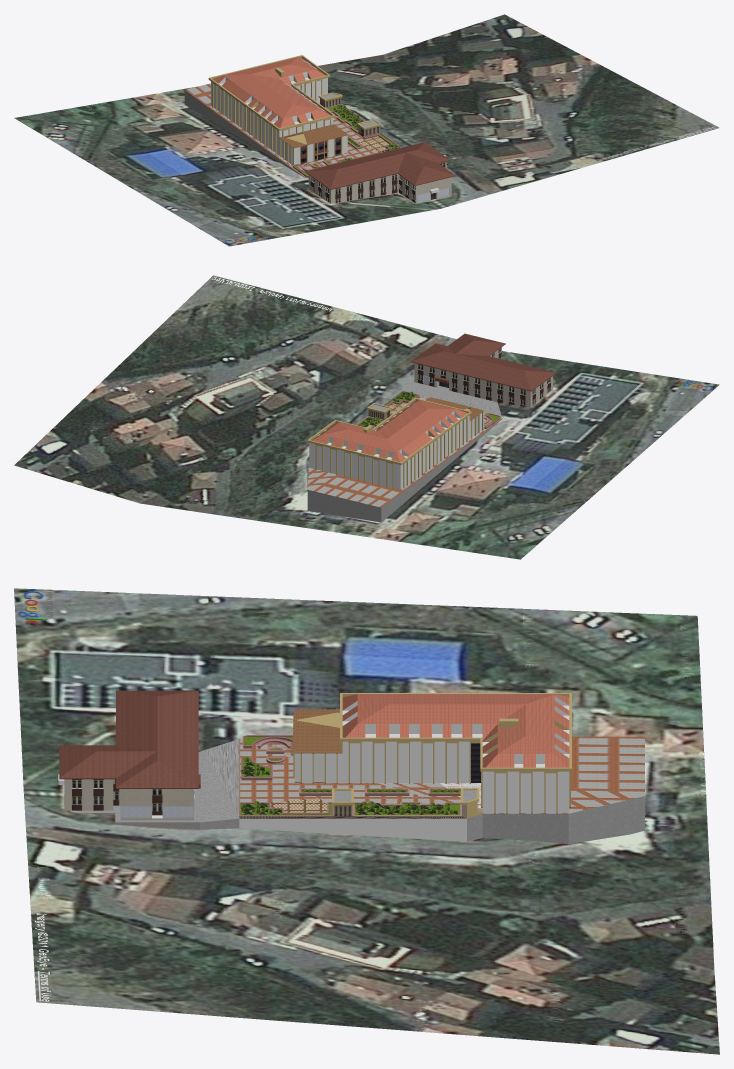
Rendered from kpark.fbx.
3 views of the same model, one above another, from view 1: azimuth 30°, elevation 25°; view 2: azimuth 150°, elevation 25°; view 3: azimuth 270°, elevation 25° (orthographic). The views are drawn at different scales.
Parts seen in each view (by area): view 1: G-Google Earth Terrain, G-__556410, G-__555564, G-__555573, G-__555600; view 2: G-Google Earth Terrain, G-__556410, G-__555564, G-__555600, G-__555573; view 3: G-Google Earth Terrain, G-__555600, G-__556410, G-__555564, G-__555573.
Part boxes in pixels (x1=…): G-Google Earth Terrain: x1=14, y1=14, x2=719, y2=246; G-__556410: x1=305, y1=142, x2=455, y2=203; G-__555564: x1=208, y1=55, x2=347, y2=165; G-__555573: x1=213, y1=57, x2=330, y2=128; G-__555600: x1=184, y1=83, x2=401, y2=178; G-Google Earth Terrain: x1=14, y1=275, x2=719, y2=559; G-__556410: x1=404, y1=333, x2=556, y2=416; G-__555564: x1=307, y1=397, x2=484, y2=489; G-__555600: x1=307, y1=390, x2=502, y2=522; G-__555573: x1=311, y1=400, x2=467, y2=462; G-Google Earth Terrain: x1=14, y1=588, x2=719, y2=1054; G-__555600: x1=238, y1=735, x2=644, y2=844; G-__556410: x1=58, y1=690, x2=239, y2=829; G-__555564: x1=291, y1=693, x2=571, y2=813; G-__555573: x1=342, y1=694, x2=569, y2=767.
Size of the model in its own units: 18330 by 2441 by 13401.
Materials: 33 (32 with a texture image).
